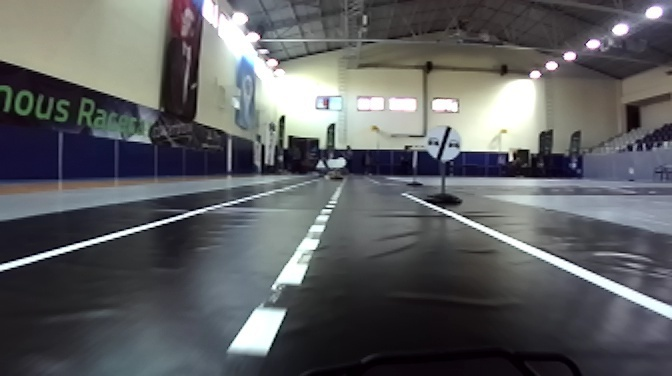sollama_serbest: (425, 125, 460, 162)
